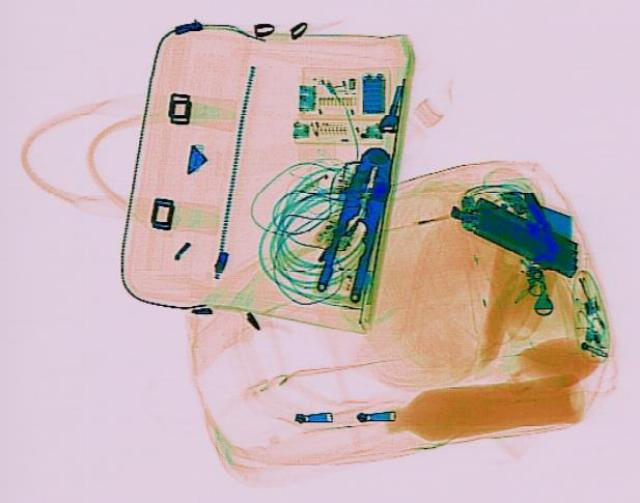Pliers: (312, 143, 400, 302)
